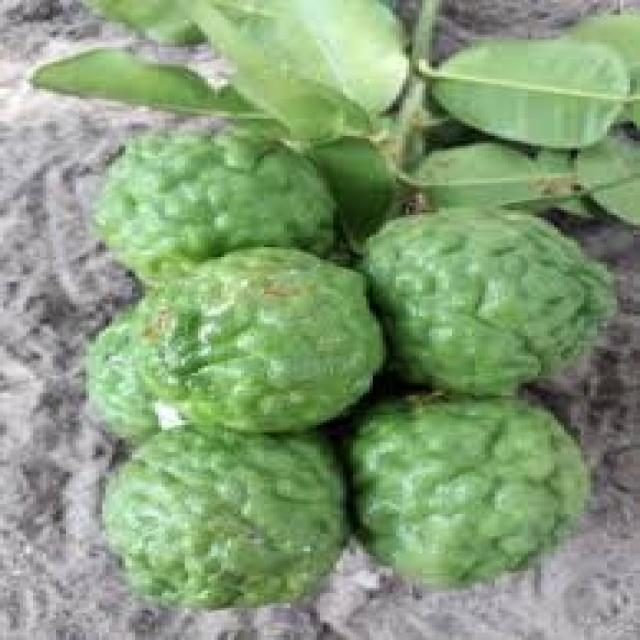Chuc: (86, 245, 386, 435), (343, 390, 594, 593), (359, 203, 617, 395), (99, 425, 350, 610), (89, 124, 337, 284)
